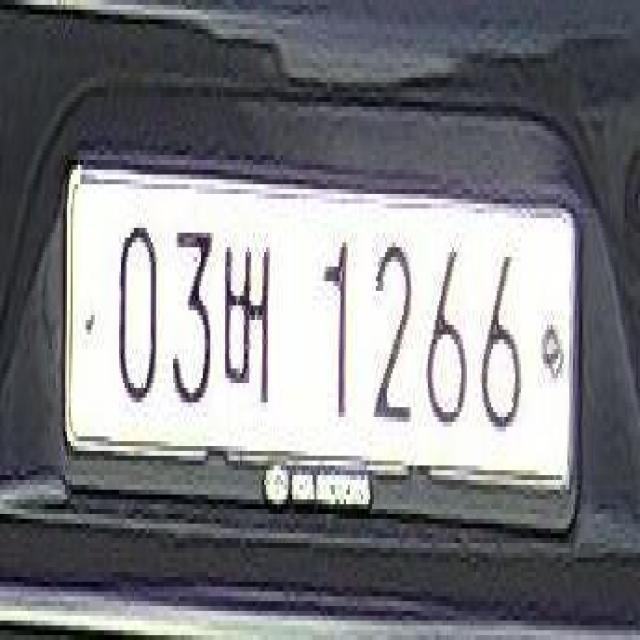illegal_plate: (69, 158, 587, 534)
